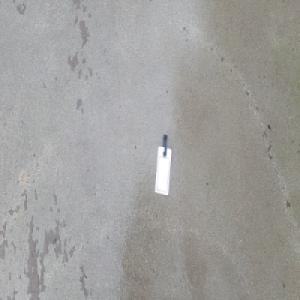LuggageTag: (153, 133, 171, 196)
